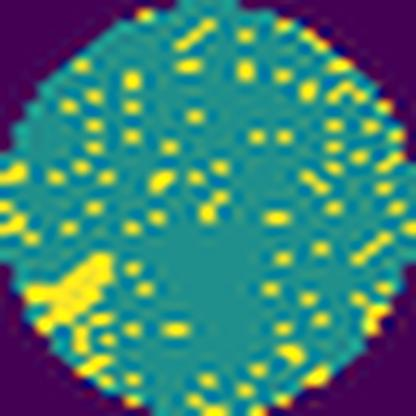Loc: (26, 249, 116, 332)
